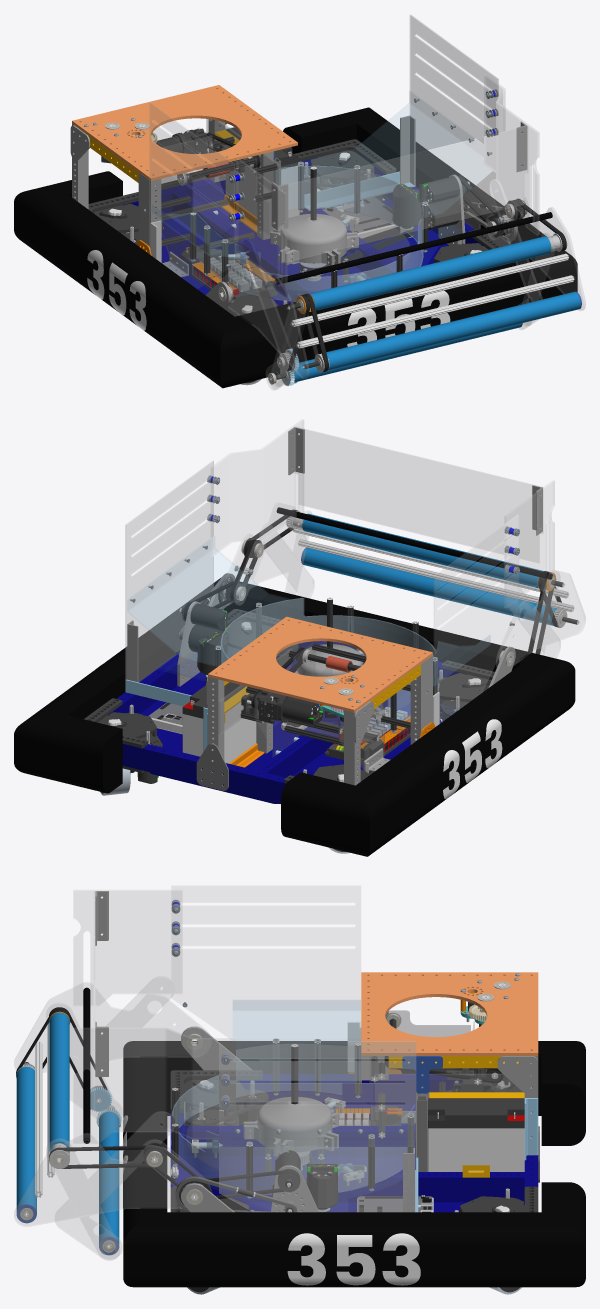
3 views of the same model, one above another, from view 1: azimuth 30°, elevation 25°; view 2: azimuth 150°, elevation 25°; view 3: azimuth 270°, elevation 25° (orthographic). The views are drawn at different scales.
Parts seen in each view (by area): view 1: Bumpers, Middle Expanding Wall, Right Hopper Wall, Stationary Plate, Large Wash Circle, Left Hopper Wall, Main Intake Plate (×2), Simplified Swerve X2 (×4), Spinning Plate, FrontRoller, Small Extending Piece, Left Funnel Plate (+36 smaller); view 2: Bumpers, Middle Expanding Wall, Left Hopper Wall, Right Hopper Wall, Left Funnel Plate, Stationary Plate, Large Extending Piece, Simplified Swerve X2 (×4), Main Intake Plate (×2), Large Wash Circle, FrontRoller, Small Extending Piece (+32 smaller); view 3: Bumpers, Left Hopper Wall, Right Hopper Wall, Main Intake Plate (×2), Large Extending Piece, Large Wash Circle, Stationary Plate, Small Extending Piece, Robot Battery, L Passive Piece (×2), Simplified Swerve X2 (×3), Right Funnel Plate (+32 smaller).
Boxes of the visible parts, x1,y1,x2,y2 form: Bumpers: (14,107,577,388); Middle Expanding Wall: (278,126,527,262); Right Hopper Wall: (149,102,234,288); Stationary Plate: (72,85,297,180); Large Wash Circle: (196,165,423,301); Left Hopper Wall: (409,14,498,229); Main Intake Plate (×2): (220,198,585,378); Simplified Swerve X2 (×4): (88,139,502,385); Spinning Plate: (223,208,409,290); FrontRoller: (326,292,580,370); Small Extending Piece: (236,158,287,296); Left Funnel Plate: (281,91,474,168); Bumpers: (14,577,575,856); Middle Expanding Wall: (294,426,543,562); Left Hopper Wall: (125,461,213,691); Right Hopper Wall: (434,515,518,726); Left Funnel Plate: (128,539,289,666); Stationary Plate: (208,616,432,712); Large Extending Piece: (211,419,303,556); Simplified Swerve X2 (×4): (84,609,494,853); Main Intake Plate (×2): (221,503,585,667); Large Wash Circle: (220,597,439,729); FrontRoller: (302,548,557,625); Small Extending Piece: (504,481,554,607); Bumpers: (123,1041,585,1287); Left Hopper Wall: (219,1041,416,1212); Right Hopper Wall: (172,886,360,1040); Main Intake Plate (×2): (14,982,211,1226); Large Extending Piece: (73,1028,235,1143); Large Wash Circle: (171,1043,414,1194); Stationary Plate: (361,972,538,1055); Small Extending Piece: (73,890,182,1005); Robot Battery: (428,1098,524,1171); L Passive Piece (×2): (55,976,174,1259); Simplified Swerve X2 (×3): (170,1070,538,1294); Right Funnel Plate: (233,1000,360,1041).
Size of what is drawn, in the model's own units: 0.8641 by 0.5898 by 1.07.
